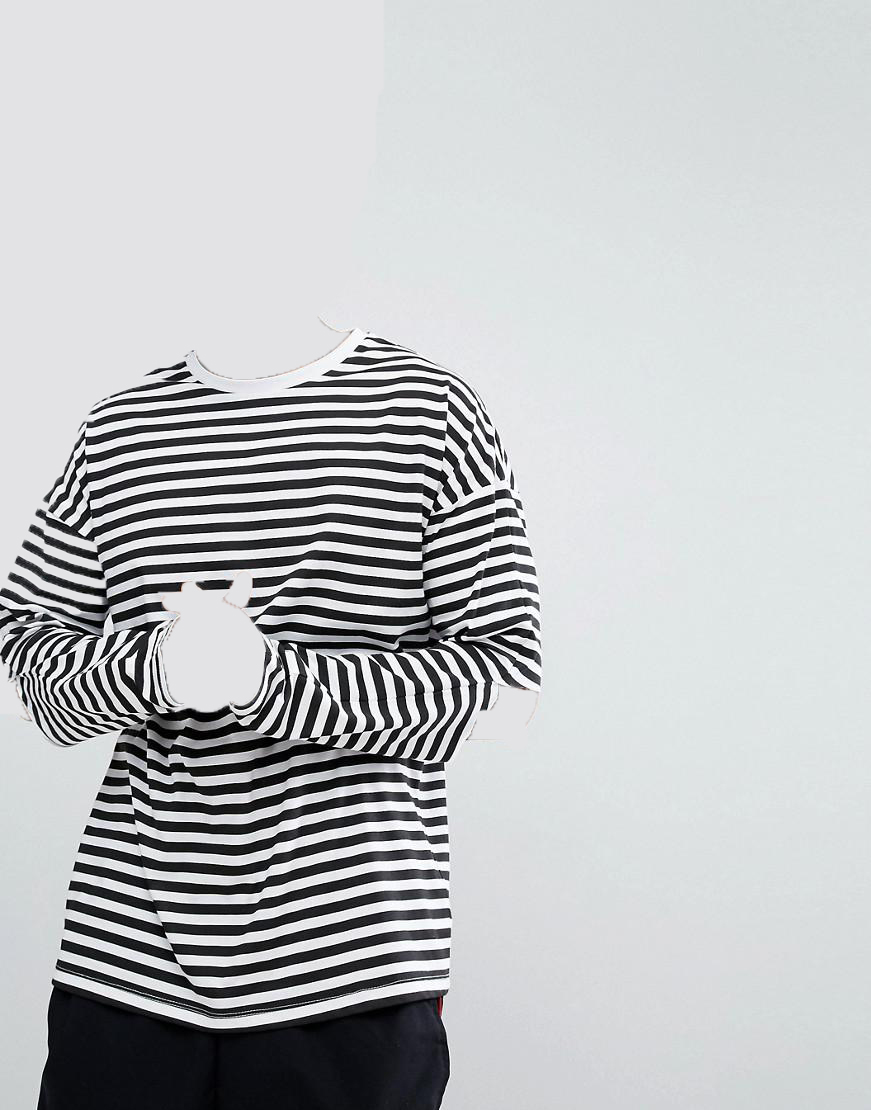teeshirt: (1, 332, 551, 1018)
